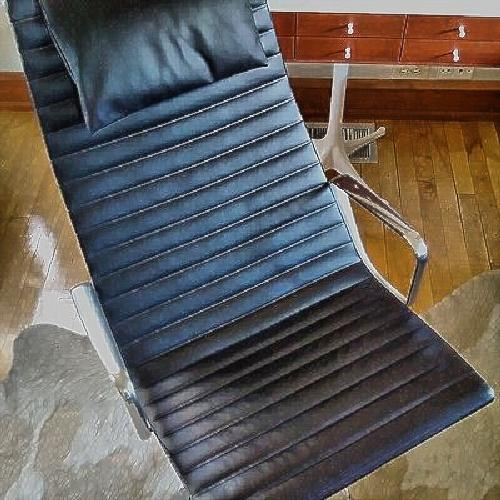chair: (31, 23, 466, 478)
